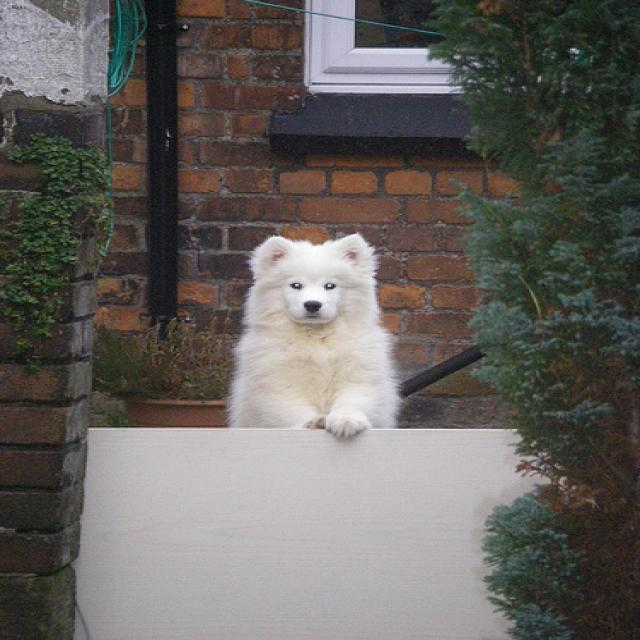dog-samoyed: (217, 223, 420, 445)
